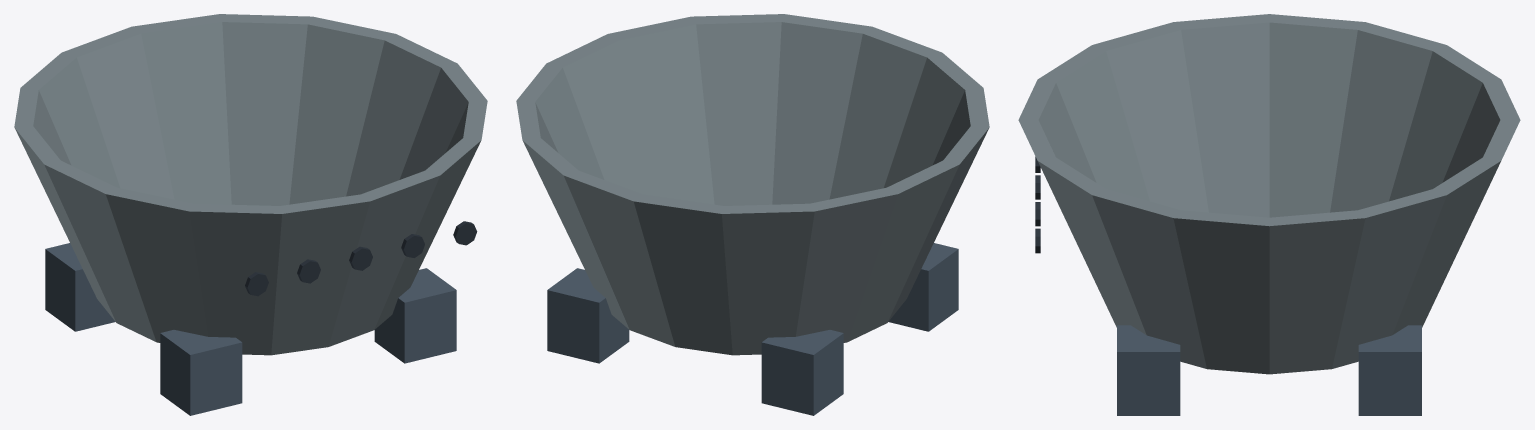
File: L-02_colander.glb
3 views of the same model, side by side, from view 1: azimuth 30°, elevation 25°; view 2: azimuth 150°, elevation 25°; view 3: azimuth 270°, elevation 25° (orthographic). The views are drawn at different scales.
Visible parts, largest first — view 1: L-02_colander; view 2: L-02_colander; view 3: L-02_colander.
Boxes of the visible parts, x1,y1,x2,y2 form: L-02_colander: [14, 14, 487, 415]; L-02_colander: [516, 14, 989, 415]; L-02_colander: [1018, 14, 1520, 415].
Bounding box in the file's own units: 0.27 × 0.135 × 0.27.
